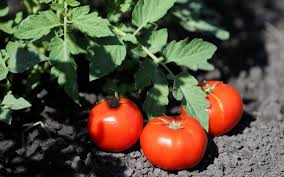spinach: (14, 8, 178, 83)
tomato: (143, 112, 207, 167), (189, 75, 242, 131), (89, 97, 136, 151)
